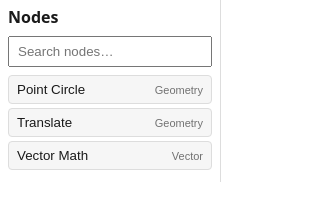
it: Palette › filters items by the search query
The image size is (320, 199).
Type "vector" into the search field labelled "Search nodes" at (110,52), box [8,36,212,67]
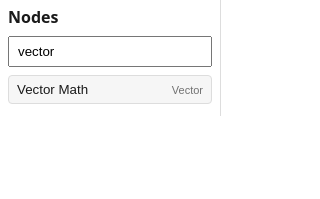
Expected: the text "Vector Math" is shown, [17,82,88,97]
Expected: the button "Point Circle" is gone
